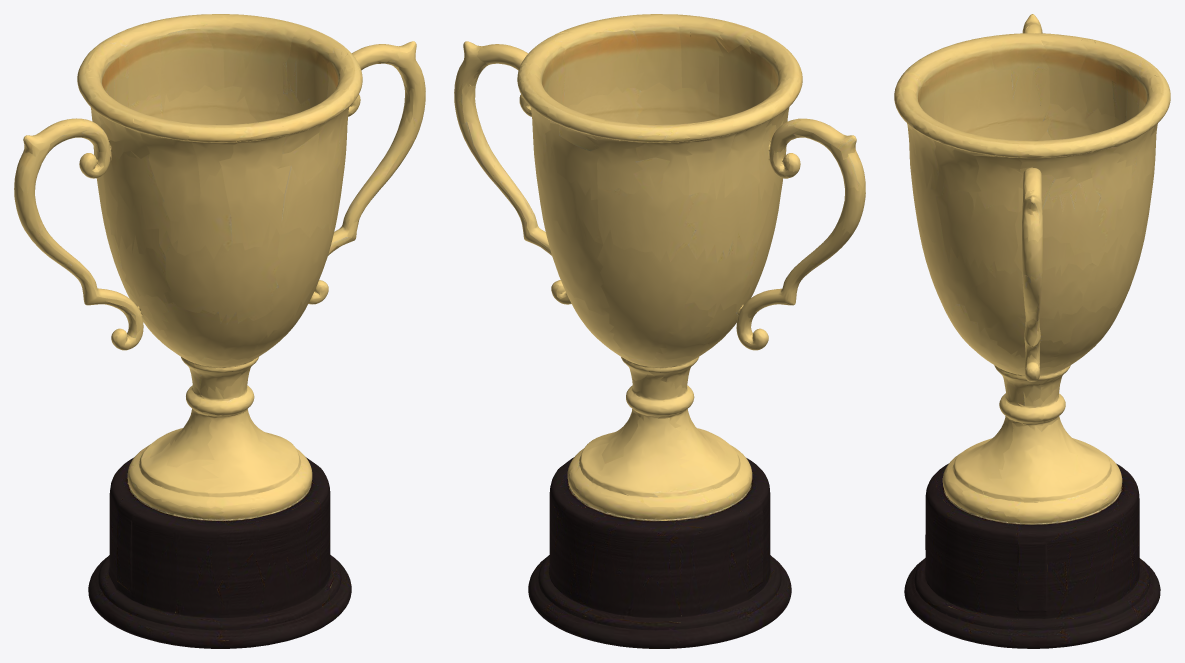
File: trophy.glb
3 renders of one model, left to right at view 1: azimuth 30°, elevation 25°; view 2: azimuth 150°, elevation 25°; view 3: azimuth 270°, elevation 25°, orthographic. The views are drawn at different scales.
Bounding box in the file's own units: 1.54 × 1.9 × 0.9329.
1 material, 1 textured.
